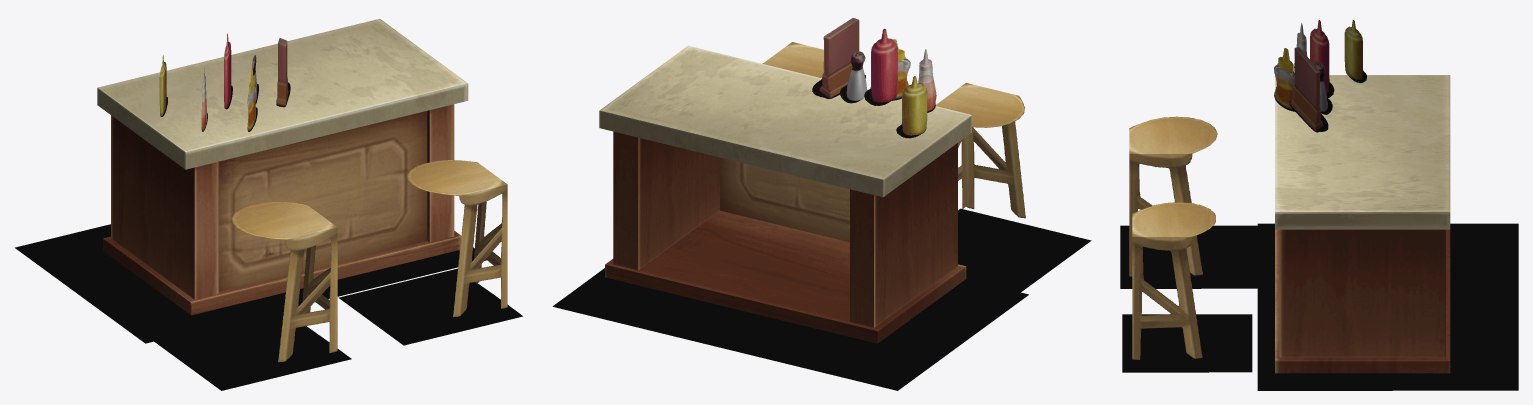
The model's file is K1_oldbreakfasttable.FBX.
The picture shows the model from 3 angles, left to right: view 1: azimuth 30°, elevation 25°; view 2: azimuth 150°, elevation 25°; view 3: azimuth 270°, elevation 25°; orthographic projection.
Visible parts, largest first — view 1: OBFT_02, OBFT_03, oldbreakfastC_yy (×2), OBFT_04, OBFT_06_yy, cc_oldbreakfasttC1, cc_oldbreakfastC2, OBFT_06, OBFT_05, OBFT_00, OBFT_07, OBFT_01; view 2: OBFT_02, OBFT_06_yy, OBFT_06, OBFT_04, OBFT_05, OBFT_03, oldbreakfastC_yy, cc_oldbreakfasttC1, OBFT_00, OBFT_07, cc_oldbreakfastC2, OBFT_09 (+3 smaller); view 3: OBFT_02, OBFT_05, OBFT_06_yy, oldbreakfastC_yy (×2), cc_oldbreakfastC2, cc_oldbreakfasttC1, OBFT_06, OBFT_00, OBFT_09, OBFT_01, OBFT_07, OBFT_10.
Part boxes in pixels (<box>): OBFT_02: <box>97,19,468,169</box>; OBFT_03: <box>218,111,427,291</box>; oldbreakfastC_yy (×2): <box>150,268,522,390</box>; OBFT_04: <box>111,115,218,299</box>; OBFT_06_yy: <box>15,224,486,343</box>; cc_oldbreakfasttC1: <box>231,201,337,362</box>; cc_oldbreakfastC2: <box>407,160,507,316</box>; OBFT_06: <box>103,231,461,315</box>; OBFT_05: <box>427,104,454,242</box>; OBFT_00: <box>276,38,290,107</box>; OBFT_07: <box>224,33,232,109</box>; OBFT_01: <box>247,68,257,131</box>; OBFT_02: <box>599,45,971,197</box>; OBFT_06_yy: <box>552,268,1028,390</box>; OBFT_06: <box>605,210,966,343</box>; OBFT_04: <box>850,143,957,327</box>; OBFT_05: <box>613,131,719,270</box>; OBFT_03: <box>720,157,849,242</box>; oldbreakfastC_yy: <box>958,208,1091,292</box>; cc_oldbreakfasttC1: <box>935,83,1025,218</box>; OBFT_00: <box>812,18,865,98</box>; OBFT_07: <box>864,28,897,105</box>; cc_oldbreakfastC2: <box>762,42,823,78</box>; OBFT_09: <box>896,76,927,138</box>; OBFT_02: <box>1275,75,1450,229</box>; OBFT_05: <box>1279,229,1445,357</box>; OBFT_06_yy: <box>1257,223,1518,390</box>; oldbreakfastC_yy (×2): <box>1120,225,1262,372</box>; cc_oldbreakfastC2: <box>1132,202,1215,359</box>; cc_oldbreakfasttC1: <box>1129,116,1217,276</box>; OBFT_06: <box>1275,229,1450,373</box>; OBFT_00: <box>1289,47,1328,132</box>; OBFT_09: <box>1344,20,1366,82</box>; OBFT_01: <box>1274,48,1295,111</box>; OBFT_07: <box>1310,20,1334,97</box>; OBFT_10: <box>1314,61,1332,114</box>.
Size of the model in its own units: 89.08 by 64.41 by 89.62.
